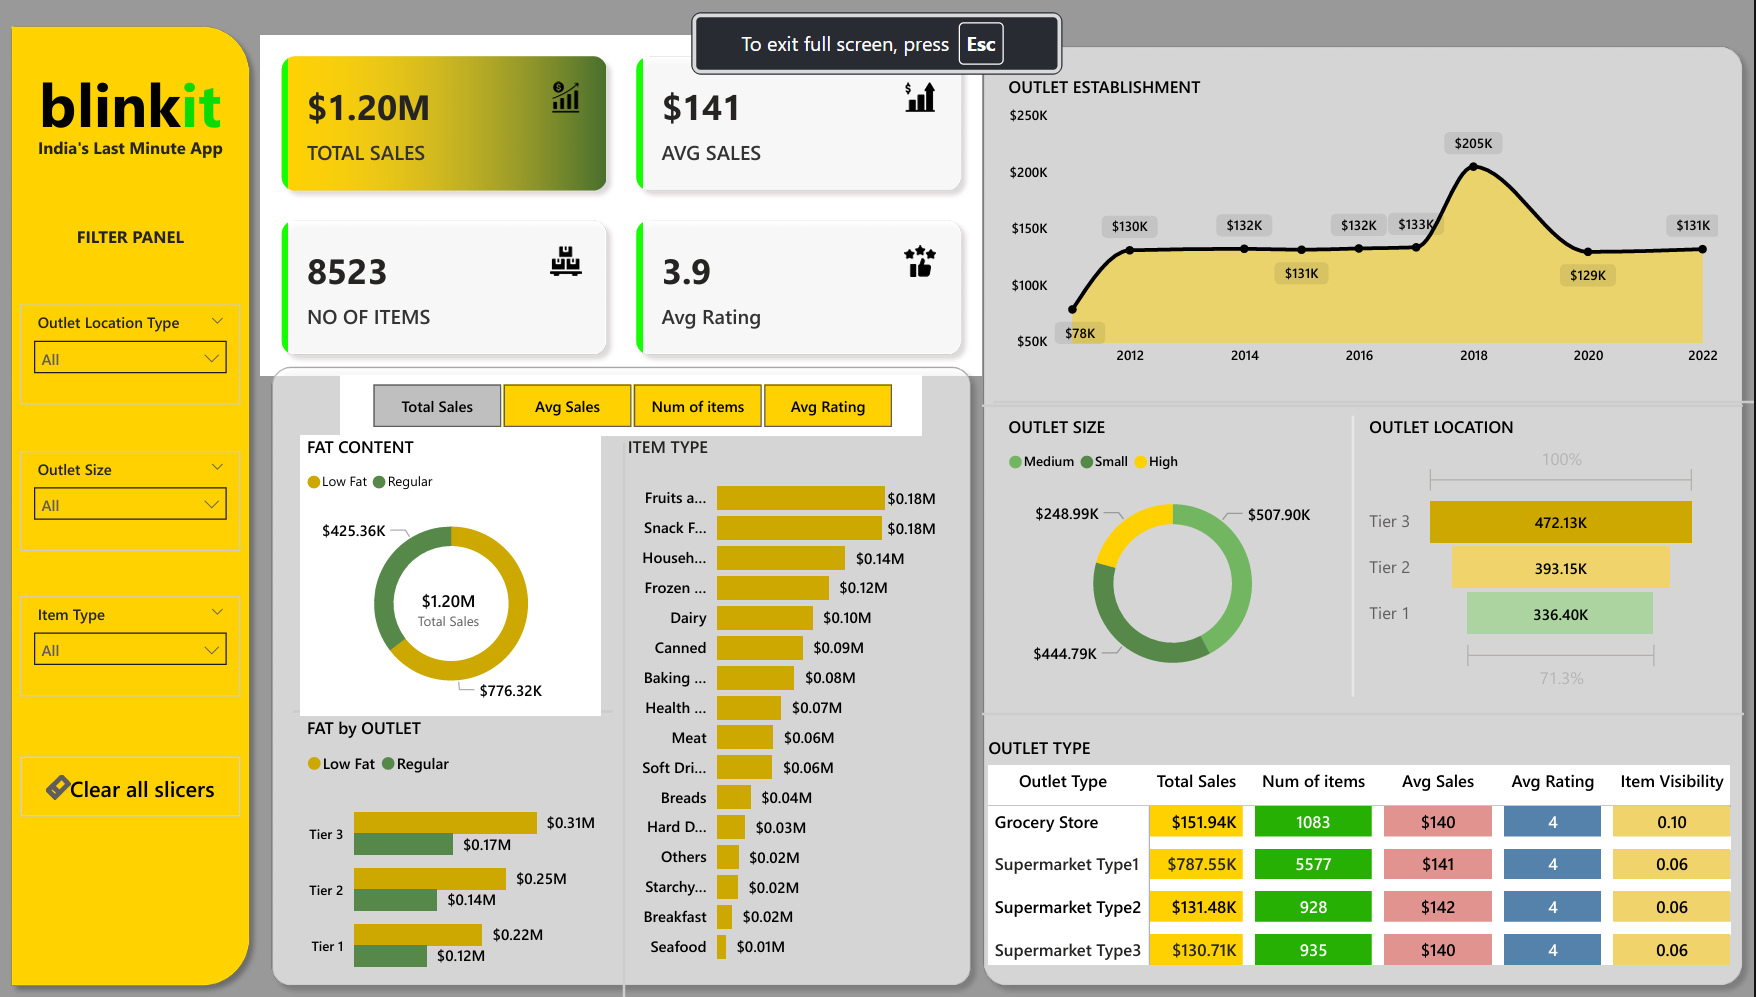

What the dashboard file says about the page in this screenshot:
{"tool":"powerbi","page":{"name":"Page 1","canvas":[1400,800],"ordinal":0},"visuals":[{"type":"shape","box":[0,16,208,784],"z":0},{"type":"textbox","box":[16,48,176,80],"z":1000},{"type":"textbox","box":[16,108,176,32],"z":2000},{"type":"cardVisual","fields":{"Data":["BlinkIT Grocery Data.Total Sales","BlinkIT Grocery Data.Avg Sales","BlinkIT Grocery Data.Num of items","BlinkIT Grocery Data.Avg Rating"]},"box":[208,32,576,272],"z":3000},{"type":"shape","box":[208,288,576,512],"z":4000},{"type":"slicer","fields":{"Values":["Metric.Metric"]},"box":[272,304,464,48],"z":5000},{"type":"donutChart","title":"FAT CONTENT ","fields":{"Y":["BlinkIT Grocery Data.Total Sales"],"Category":["BlinkIT Grocery Data.Item Fat Content"]},"box":[240,352,240,224],"z":5000,"group":"g1"},{"type":"clusteredBarChart","title":"FAT by OUTLET","fields":{"Y":["BlinkIT Grocery Data.Total Sales"],"Category":["BlinkIT Grocery Data.Outlet Location Type"],"Series":["BlinkIT Grocery Data.Item Fat Content"]},"box":[240,576,240,224],"z":6000},{"type":"cardVisual","fields":{"Data":["BlinkIT Grocery Data.Total Sales"]},"box":[310,457,96,64],"z":7000,"group":"g1"},{"type":"shape","box":[234,564,255,16],"z":7000},{"type":"shape","box":[1072,336,16,224],"z":8000},{"type":"barChart","title":"ITEM TYPE","fields":{"Y":["BlinkIT Grocery Data.Total Sales"],"Category":["BlinkIT Grocery Data.Item Type"]},"box":[496,352,256,432],"z":9000},{"type":"shape","box":[776,32,624,768],"z":10000},{"type":"lineChart","title":"OUTLET ESTABLISHMENT","fields":{"Y":["BlinkIT Grocery Data.Total Sales"],"Category":["BlinkIT Grocery Data.Outlet Establishment Year"]},"box":[800,64,576,240],"z":11000},{"type":"shape","box":[784,320,607,16],"z":12000},{"type":"donutChart","title":"OUTLET SIZE","fields":{"Y":["BlinkIT Grocery Data.Total Sales"],"Category":["BlinkIT Grocery Data.Outlet Size"]},"box":[800,336,272,224],"z":13000},{"type":"group","id":"g1","title":"Group 1","box":[240,352,240,224],"z":14000},{"type":"shape","box":[490,358,16,442],"z":15000},{"type":"funnel","title":"OUTLET LOCATION","fields":{"Category":["BlinkIT Grocery Data.Outlet Location Type"],"Y":["Sum(BlinkIT Grocery Data.Sales)"]},"box":[1088,336,272,224],"z":16000},{"type":"shape","box":[784,566,608,16],"z":17000},{"type":"pivotTable","title":"OUTLET TYPE","fields":{"Values":["BlinkIT Grocery Data.Total Sales","BlinkIT Grocery Data.Num of items","BlinkIT Grocery Data.Avg Sales","BlinkIT Grocery Data.Avg Rating","Avg(BlinkIT Grocery Data.Item Visibility)"],"Rows":["BlinkIT Grocery Data.Outlet Type"]},"box":[784,592,608,192],"z":18000},{"type":"slicer","fields":{"Values":["BlinkIT Grocery Data.Outlet Location Type"]},"box":[16,247.3,176,80],"z":19000},{"type":"shape","box":[793,317,607,16],"z":20000},{"type":"slicer","fields":{"Values":["BlinkIT Grocery Data.Outlet Size"]},"box":[16,363.7,176,80],"z":21000},{"type":"slicer","fields":{"Values":["BlinkIT Grocery Data.Item Type"]},"box":[16,480,176,80],"z":22000},{"type":"textbox","box":[16,179,176,32],"z":23000},{"type":"actionButton","box":[16,608,176,48],"z":23001}]}

Visuals, with their boxes in screenshot pixels (x1, y1, x2, y2), scaled from the page's 1400x800 canvas onto the 1756x997 screenshot:
shape: [0,20,261,996]
textbox: [20,60,241,160]
textbox: [20,135,241,174]
cardVisual - BlinkIT Grocery Data.Total Sales x BlinkIT Grocery Data.Avg Sales: [261,40,983,379]
shape: [261,359,983,996]
slicer - Metric.Metric: [341,379,923,439]
"FAT CONTENT " donutChart: [301,439,602,718]
"FAT by OUTLET" clusteredBarChart: [301,718,602,996]
cardVisual - BlinkIT Grocery Data.Total Sales: [389,570,509,649]
shape: [294,703,613,723]
shape: [1345,419,1365,698]
"ITEM TYPE" barChart: [622,439,943,977]
shape: [973,40,1755,996]
"OUTLET ESTABLISHMENT" lineChart: [1003,80,1726,379]
shape: [983,399,1745,419]
"OUTLET SIZE" donutChart: [1003,419,1345,698]
"Group 1" group: [301,439,602,718]
shape: [615,446,635,996]
"OUTLET LOCATION" funnel: [1365,419,1706,698]
shape: [983,705,1746,725]
"OUTLET TYPE" pivotTable: [983,738,1746,977]
slicer - BlinkIT Grocery Data.Outlet Location Type: [20,308,241,408]
shape: [995,395,1755,415]
slicer - BlinkIT Grocery Data.Outlet Size: [20,453,241,553]
slicer - BlinkIT Grocery Data.Item Type: [20,598,241,698]
textbox: [20,223,241,263]
actionButton: [20,758,241,818]
